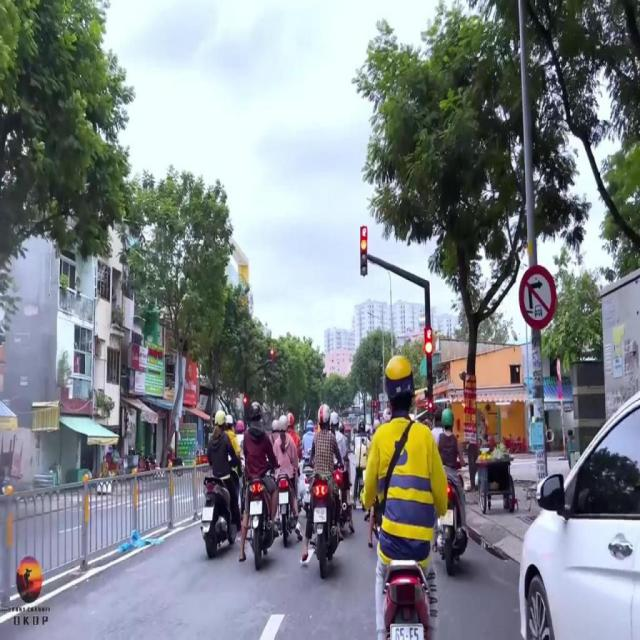cam_o_to_re_phai: (518, 264, 556, 330)
